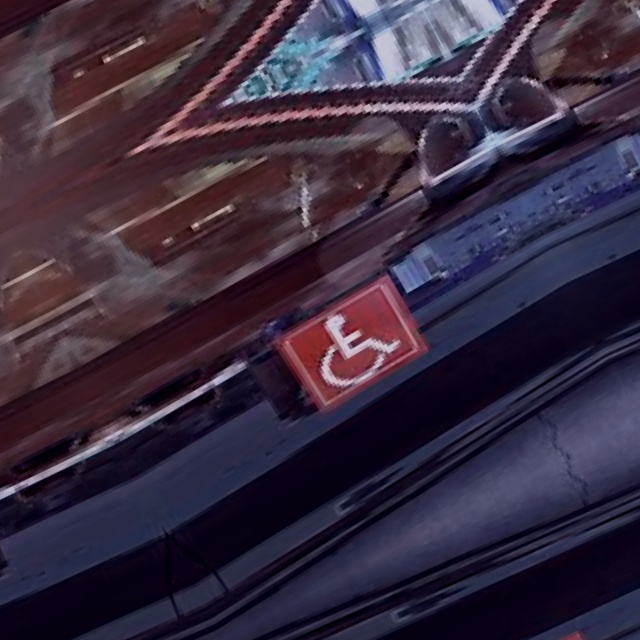ISA: (286, 285, 419, 404), (473, 638, 607, 640)
